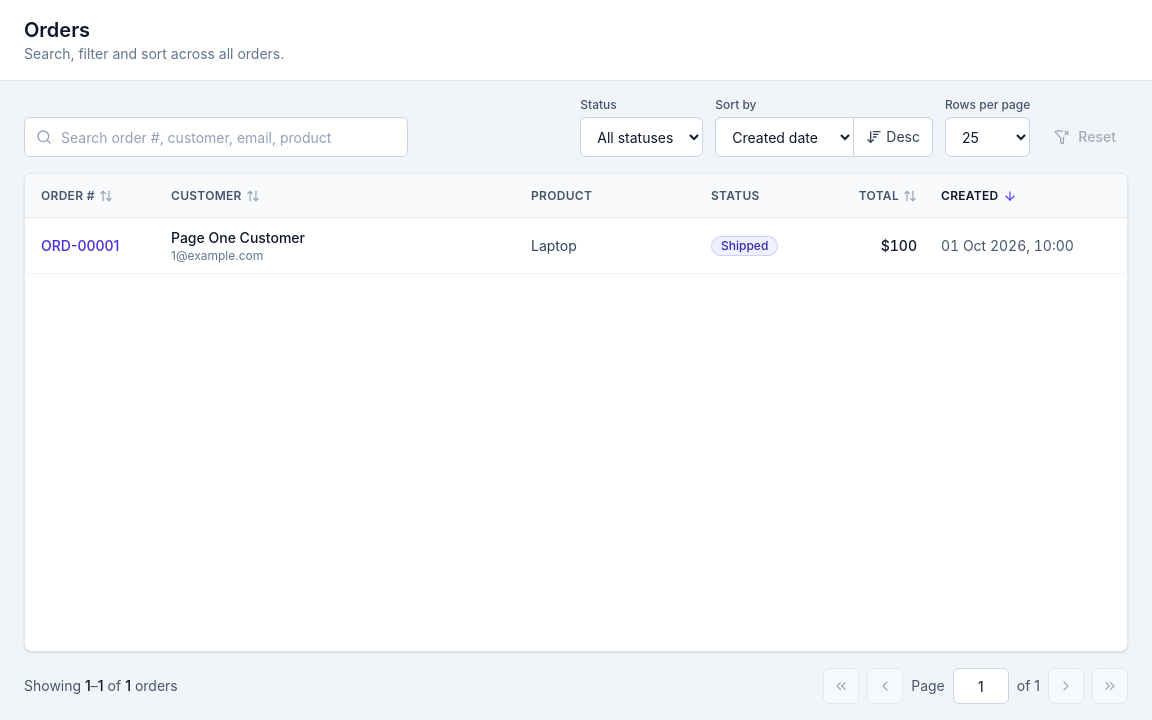
Test: OrdersPage › hides old rows on failure and recovers via retry
Check: the text "Page One Customer" is shown, box [171, 228, 305, 246]
Select "Pending" in the dropdown labelled "Status". click: (642, 137)
box: [580, 117, 703, 157]
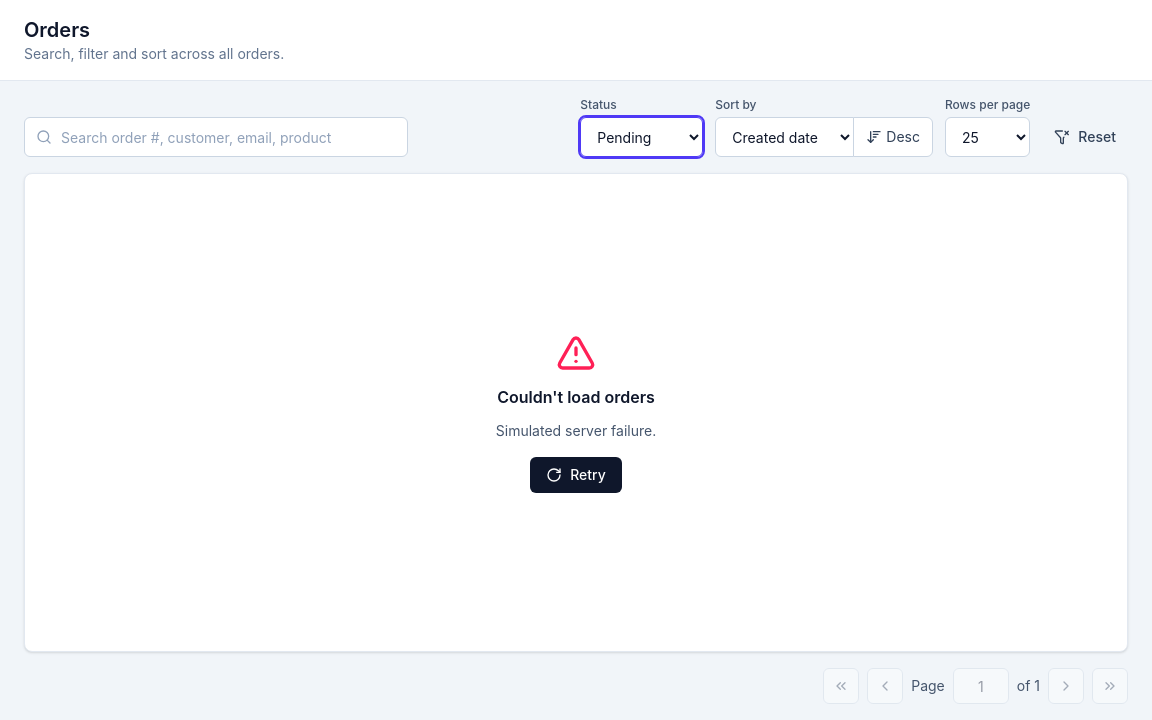
Check: the heading "Couldn't load orders" is shown, box [497, 384, 655, 408]
Check: the text "Page One Customer" is gone
Click the button "Retry". click: (576, 474)
box: [530, 456, 622, 492]
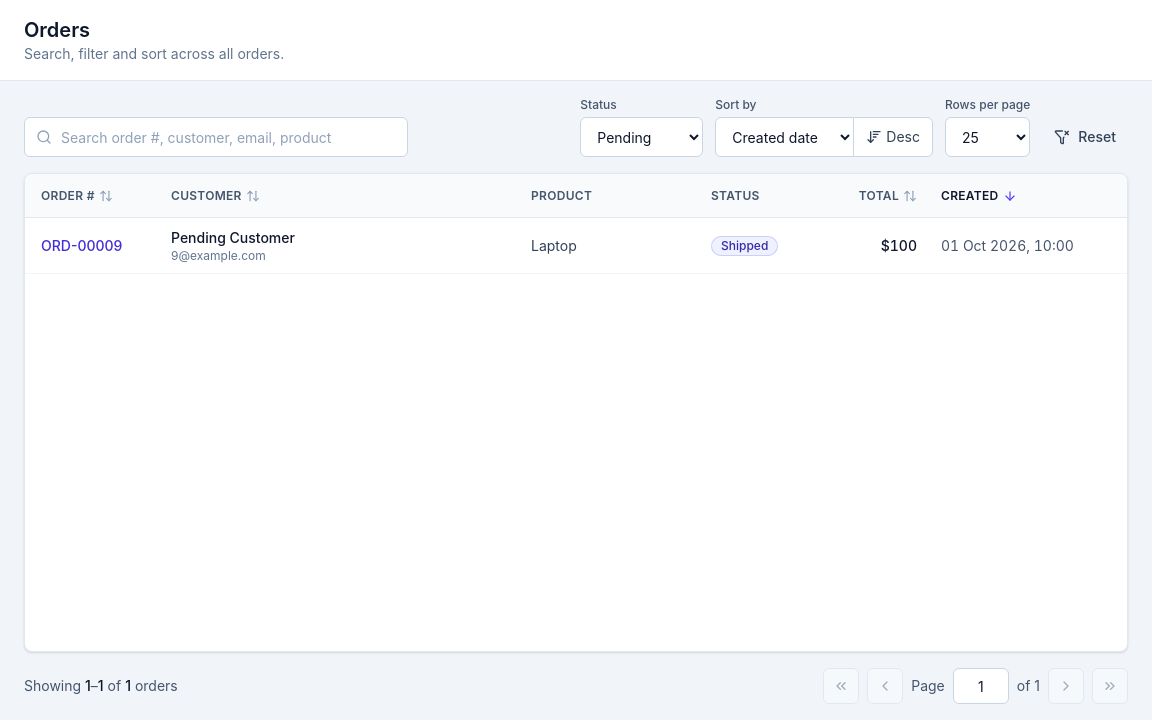
Check: the text "Pending Customer" is shown, box [171, 228, 295, 246]
Check: the heading "Couldn't load orders" is gone
